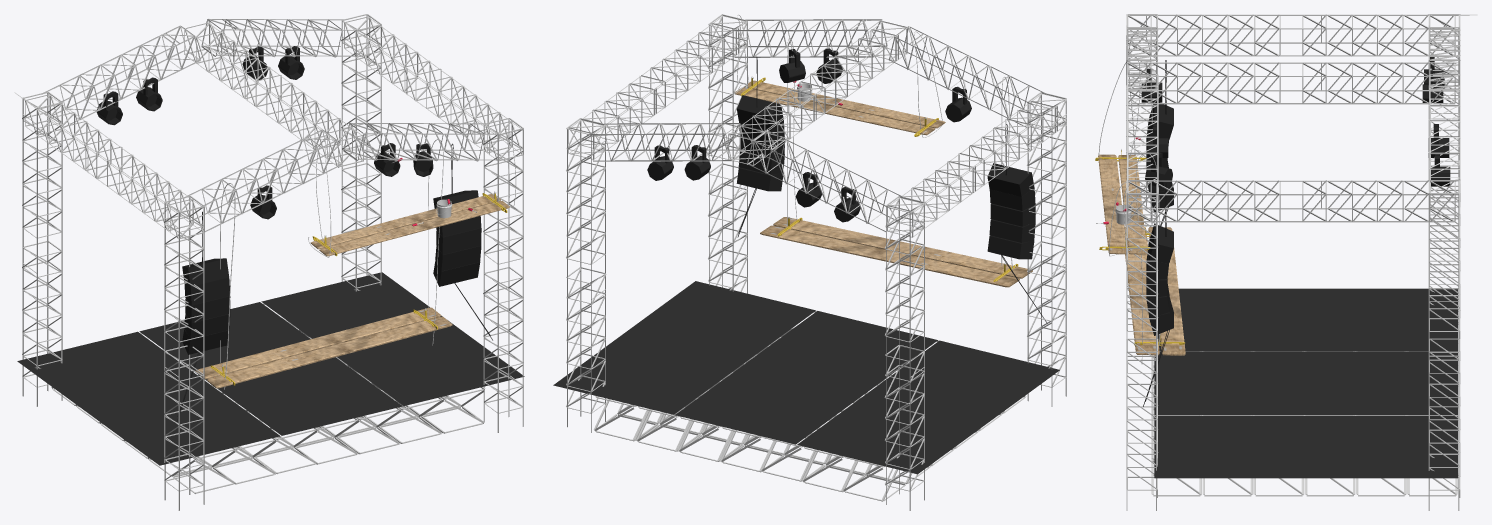
File: Escenario Conciertos.fbx
3 renders of one model, left to right at view 1: azimuth 30°, elevation 25°; view 2: azimuth 150°, elevation 25°; view 3: azimuth 270°, elevation 25°, orthographic. The views are drawn at different scales.
Parts seen in each view (by area): view 1: Plane.013, Cube.010, Plane.001, Plane, Plane.010, Plane.004, Plane.008, Plane.009, Plane.011, Plane.007, Cube, Cube.014 (+8 smaller); view 2: Plane.013, Cube.010, Plane.010, Plane.004, Plane, Plane.007, Plane.008, Plane.011, Plane.009, Plane.001, Cube, Cube.001 (+10 smaller); view 3: Plane.013, Plane.009, Plane.008, Plane.011, Plane.007, Plane.001, Cube.010, Cube.014, Plane.010, Cube.001, Plane.004, Plane.003 (+7 smaller).
Part boxes in pixels (left/top/right/bottom): Plane.013: left=17, top=272, right=524, bottom=465; Cube.010: left=195, top=307, right=452, bottom=388; Plane.001: left=483, top=118, right=523, bottom=432; Plane: left=164, top=196, right=204, bottom=510; Plane.010: left=51, top=303, right=485, bottom=493; Plane.004: left=22, top=92, right=62, bottom=406; Plane.008: left=14, top=92, right=204, bottom=239; Plane.009: left=342, top=16, right=523, bottom=161; Plane.011: left=184, top=22, right=363, bottom=167; Plane.007: left=341, top=14, right=381, bottom=291; Cube: left=177, top=211, right=230, bottom=421; Cube.014: left=310, top=193, right=509, bottom=256; Plane.013: left=553, top=281, right=1059, bottom=474; Cube.010: left=760, top=217, right=1032, bottom=287; Plane.010: left=593, top=311, right=1026, bottom=501; Plane.004: left=884, top=196, right=924, bottom=510; Plane: left=1026, top=92, right=1066, bottom=406; Plane.007: left=566, top=118, right=606, bottom=432; Plane.008: left=887, top=93, right=1066, bottom=237; Plane.011: left=728, top=21, right=907, bottom=165; Plane.009: left=568, top=16, right=747, bottom=160; Plane.001: left=707, top=14, right=747, bottom=293; Cube: left=987, top=124, right=1047, bottom=323; Cube.001: left=736, top=56, right=784, bottom=237; Plane.013: left=1154, top=288, right=1457, bottom=478; Plane.009: left=1127, top=180, right=1457, bottom=222; Plane.008: left=1127, top=14, right=1477, bottom=56; Plane.011: left=1127, top=62, right=1457, bottom=104; Plane.007: left=1428, top=180, right=1460, bottom=510; Plane.001: left=1126, top=180, right=1158, bottom=510; Cube.010: left=1124, top=226, right=1185, bottom=355; Cube.014: left=1098, top=154, right=1147, bottom=254; Plane.010: left=1151, top=343, right=1458, bottom=496; Cube.001: left=1143, top=183, right=1173, bottom=406; Plane.004: left=1428, top=14, right=1460, bottom=324; Plane.003: left=1126, top=74, right=1158, bottom=206.
Bounding box in the file's own units: 4329 × 3774 × 3690.
